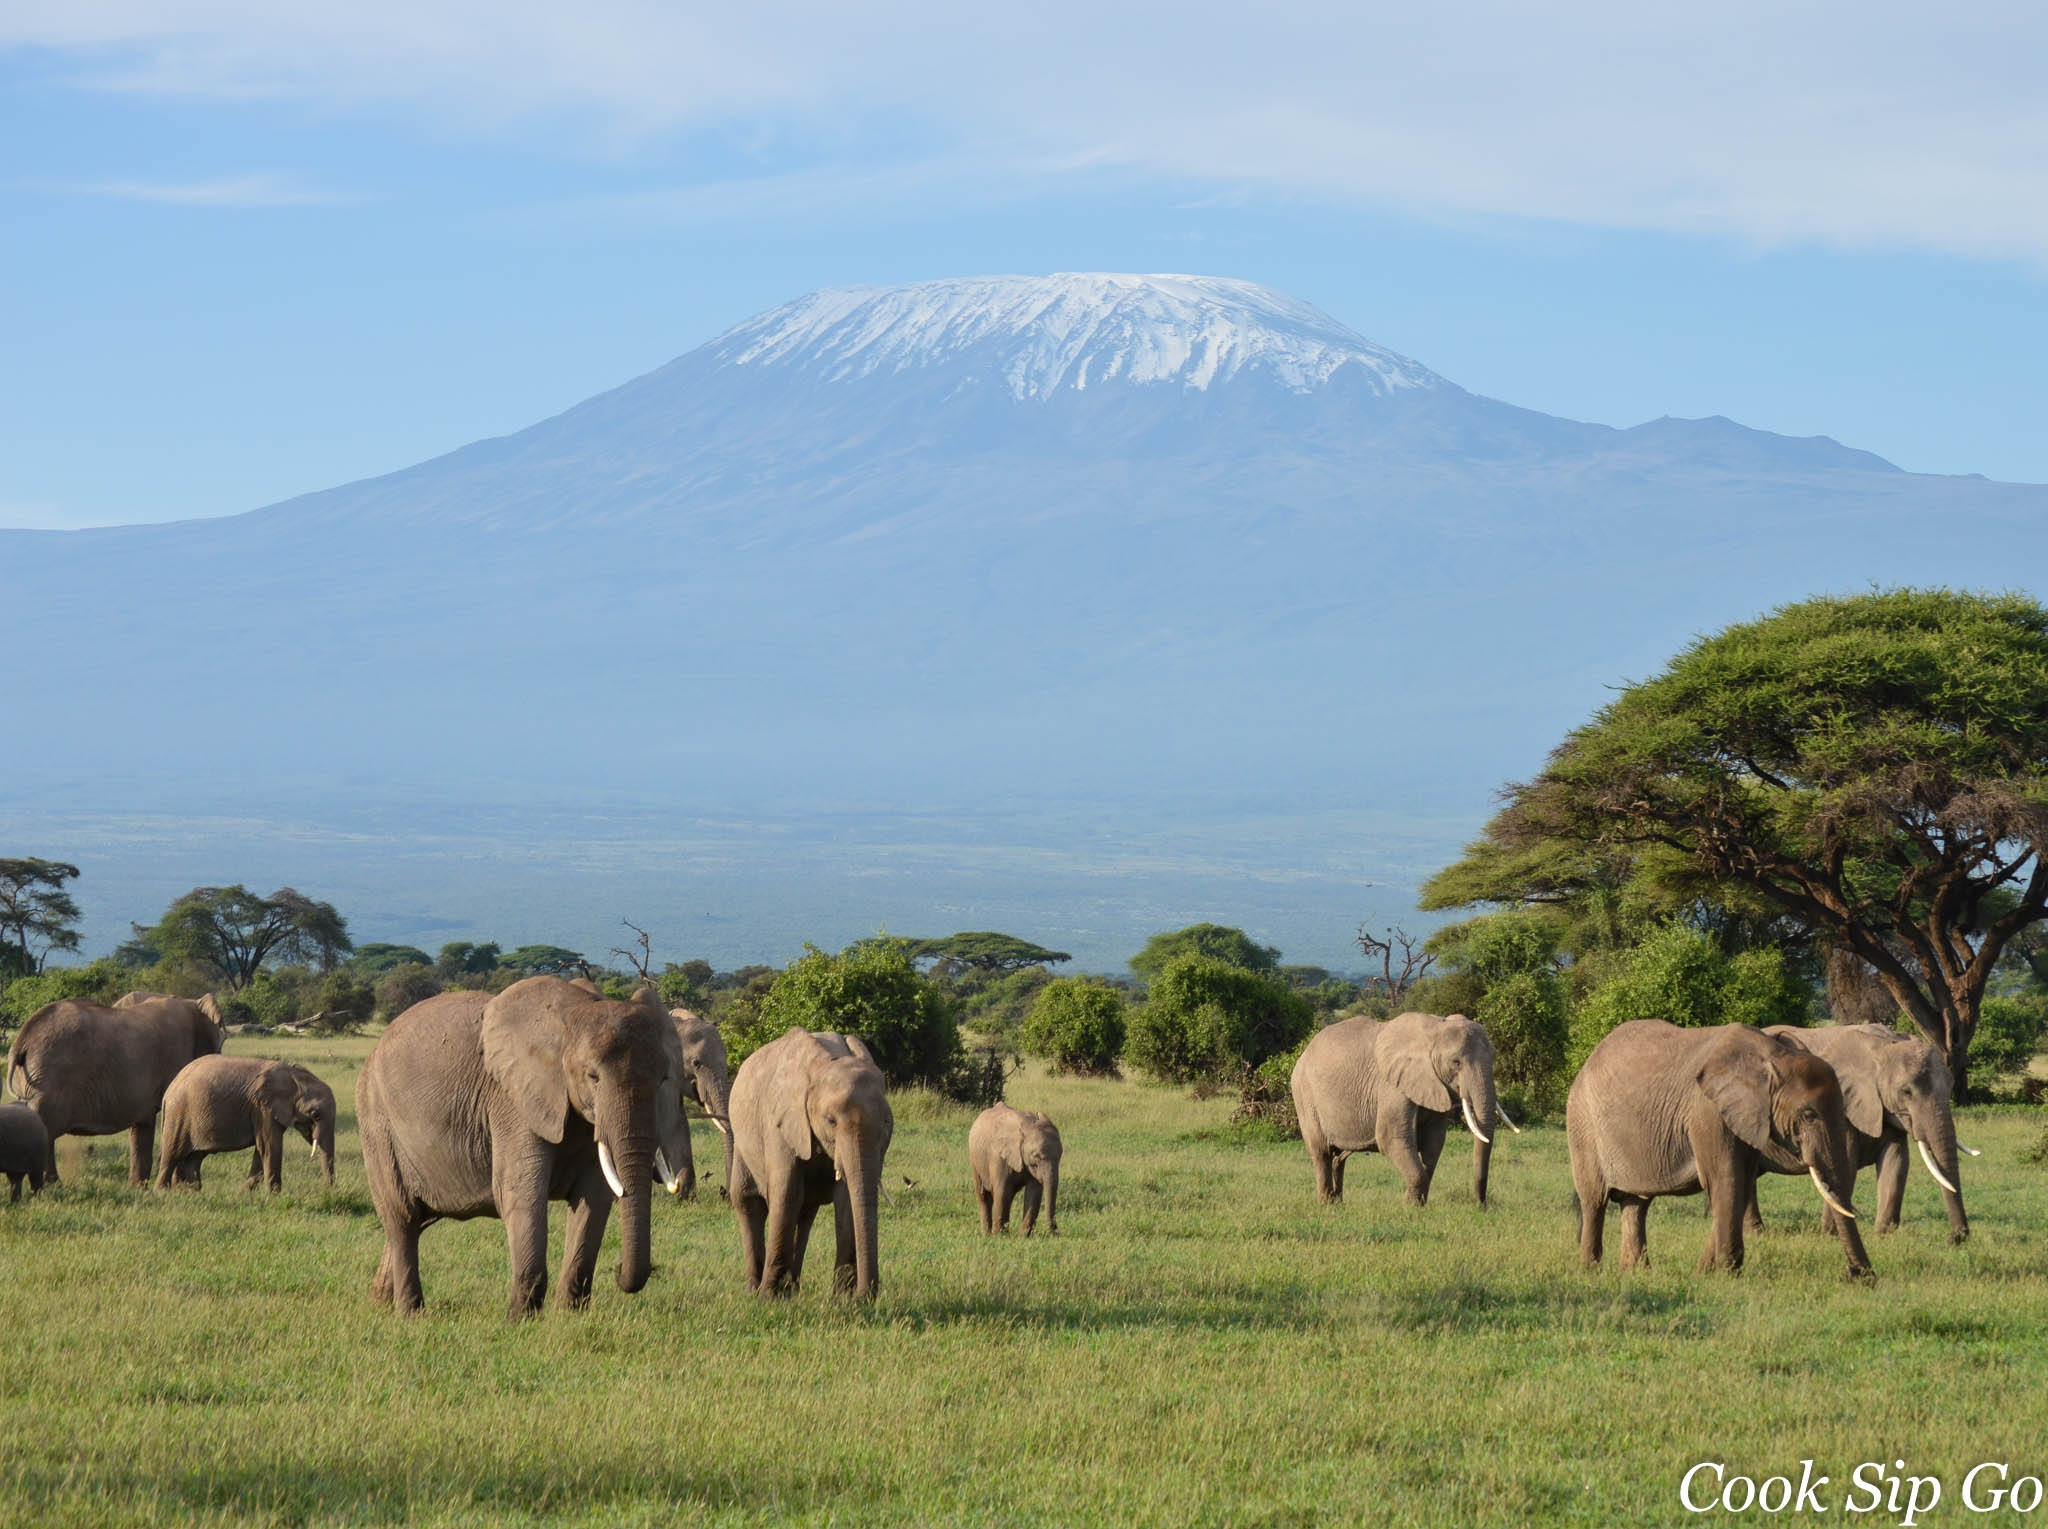elephant: (528, 1144, 872, 1466), (1711, 1140, 2037, 1441), (810, 1168, 977, 1457), (1402, 1111, 1634, 1314), (251, 1119, 443, 1288), (1012, 1169, 1129, 1320)
